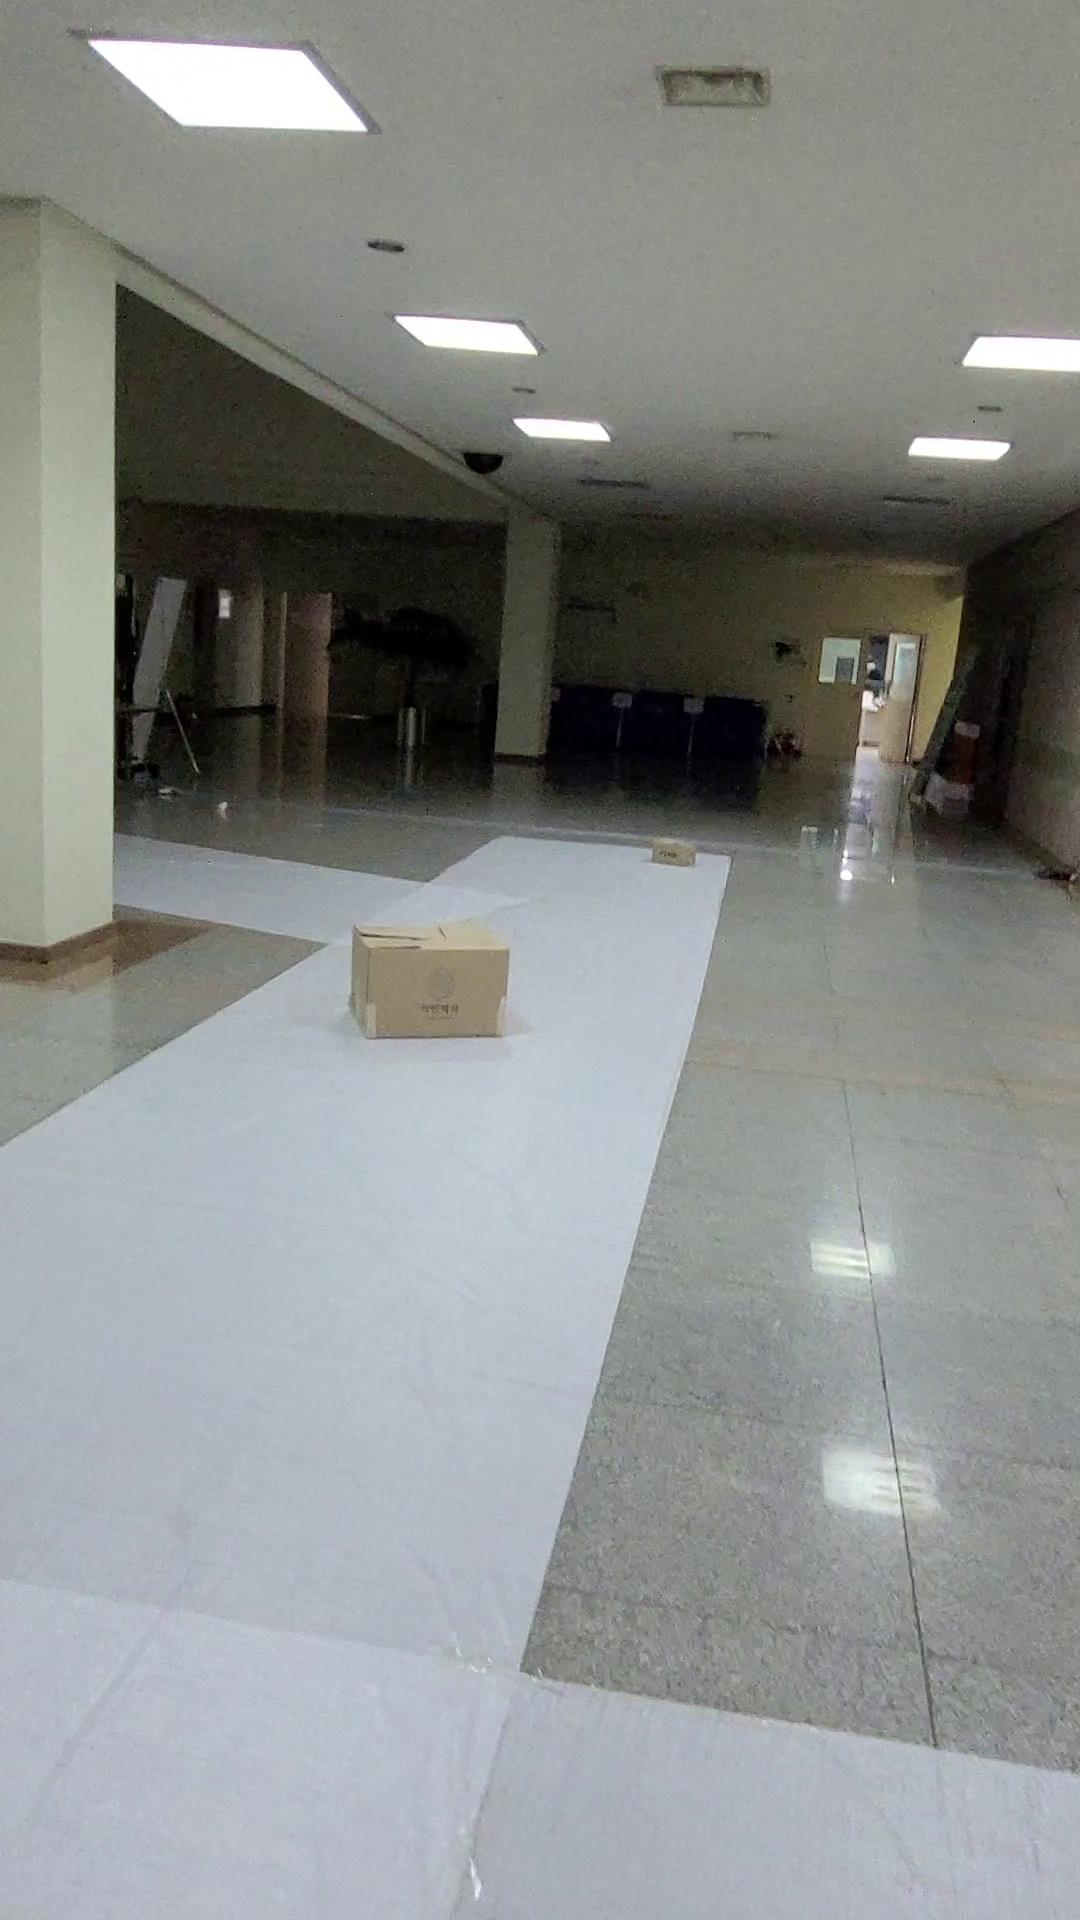Box: (320, 893, 543, 1050), (638, 825, 709, 891)
